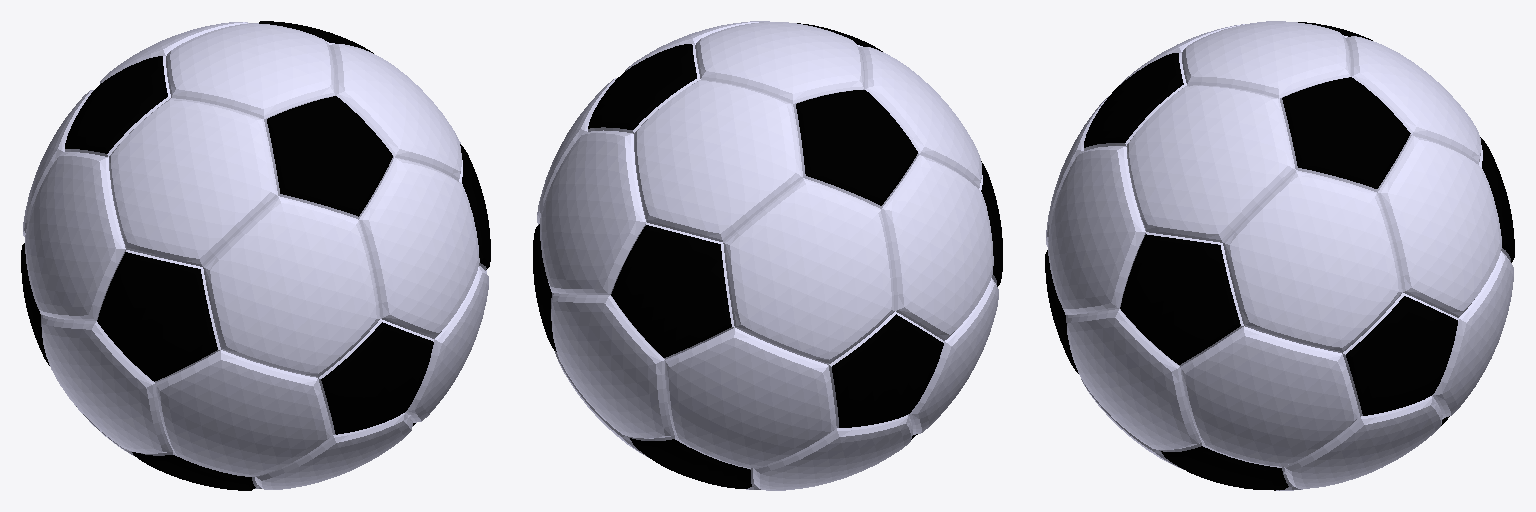
Rendered from ball.obj.
3 views of the same model, side by side, from view 1: azimuth 30°, elevation 25°; view 2: azimuth 150°, elevation 25°; view 3: azimuth 270°, elevation 25° (orthographic).
Visible parts, largest first — view 1: Icosphere.001; view 2: Icosphere.001; view 3: Icosphere.001.
Part boxes in pixels (x1,y1,x2,y2): Icosphere.001: (21, 21, 490, 490); Icosphere.001: (533, 21, 1002, 490); Icosphere.001: (1045, 21, 1514, 490).
Size of the model in its own units: 1 by 1 by 1.